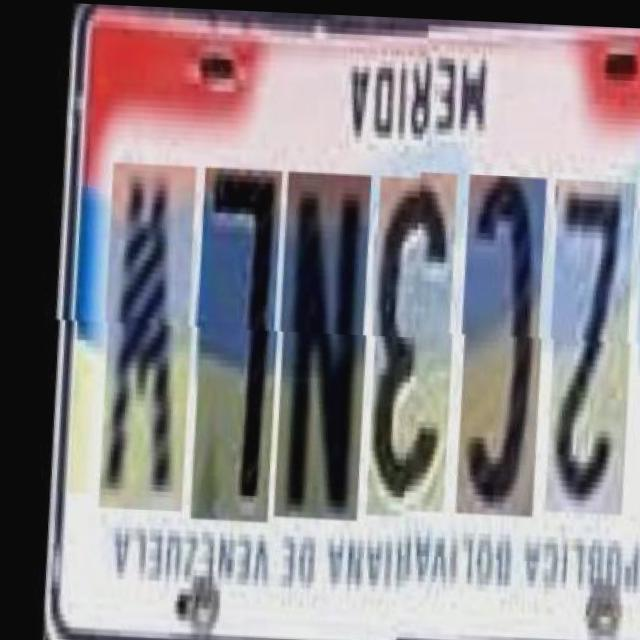2: (516, 174, 637, 511)
3: (337, 166, 461, 510)
c: (427, 169, 549, 514)
l: (161, 159, 286, 515), (603, 177, 640, 512)
n: (245, 162, 374, 513)
w: (71, 154, 200, 506)
